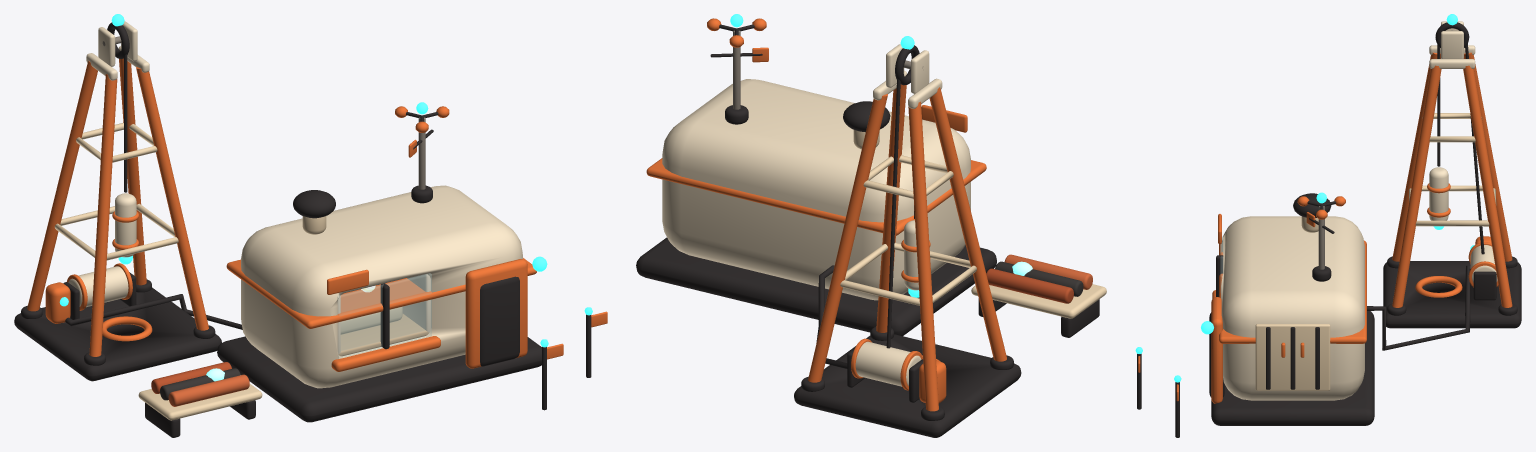
The model's file is geolocator-4.glb.
3 views of the same model, side by side, from view 1: azimuth 30°, elevation 25°; view 2: azimuth 150°, elevation 25°; view 3: azimuth 270°, elevation 25° (orthographic). The views are drawn at different scales.
Parts seen in each view (by area): view 1: Cube.001, Cube, Cube.027, Cube.020, Cube.002, pipe.005, pipe.006, Cube.024, pipe.004, Cube.023, pipe.003, Cube.037 (+19 smaller); view 2: Cube.001, Cube, Cube.027, pipe.004, pipe.003, pipe.005, Cube.002, pipe.006, Cube.037, Cylinder.009, pipe.007, Cylinder.015 (+14 smaller); view 3: Cube.001, Cube.027, Cube, Cube.003, pipe.006, pipe.003, Cube.023, pipe.005, pipe.004, pipe.011, Cube.002, Cylinder.012 (+9 smaller).
Part boxes in pixels (x1,y1,x2,y2): Cube.001: (241,185,522,388); Cube: (217,336,541,422); Cube.027: (14,287,221,381); Cube.020: (337,273,431,358); Cube.002: (226,258,536,328); pipe.005: (89,74,117,356); pipe.006: (136,67,208,330); Cube.024: (480,276,519,366); pipe.004: (27,60,97,311); Cube.023: (465,259,527,368); pipe.003: (119,58,146,285); Cube.037: (138,384,262,420); Cube.001: (662,79,970,300); Cube: (636,237,996,335); Cube.027: (794,334,1021,437); pipe.004: (908,101,938,411); pipe.003: (808,94,887,382); pipe.005: (929,87,1006,361); Cube.002: (646,158,986,235); pipe.006: (876,84,906,332); Cube.037: (971,284,1106,318); Cylinder.009: (855,341,921,386); pipe.007: (840,242,976,305); Cylinder.015: (986,268,1073,303); Cube.001: (1221,216,1364,400); Cube.027: (1383,261,1521,328); Cube: (1211,311,1374,425); Cube.003: (1255,324,1330,390); pipe.006: (1392,65,1441,307); pipe.003: (1463,65,1512,307); Cube.023: (1211,297,1222,403); pipe.005: (1392,52,1440,261); pipe.004: (1463,52,1512,261); pipe.011: (1367,265,1470,350); Cube.002: (1219,240,1366,343); Cylinder.012: (1429,167,1448,220).
Size of the model in its own units: 2.13 by 1.65 by 2.01.
